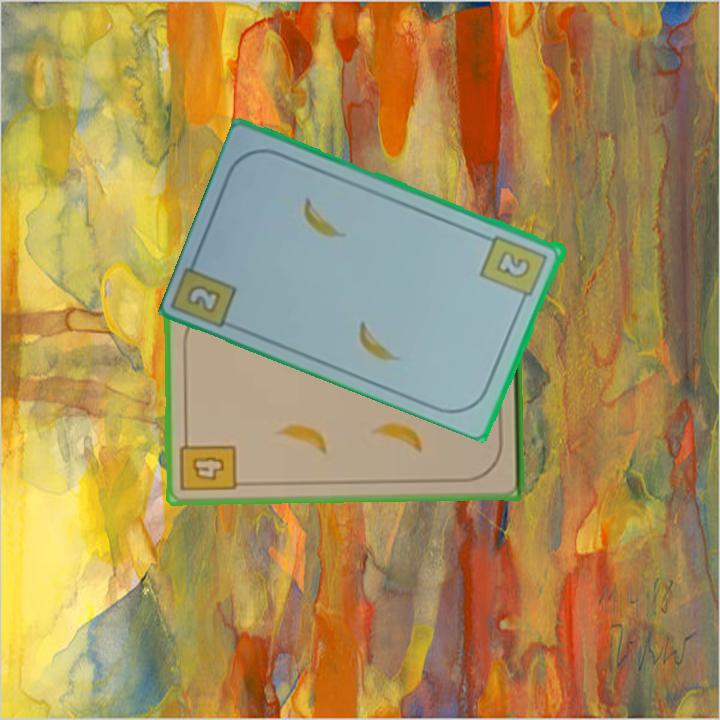2b: (478, 231, 551, 307), (183, 281, 225, 316)
4b: (177, 432, 239, 494)
